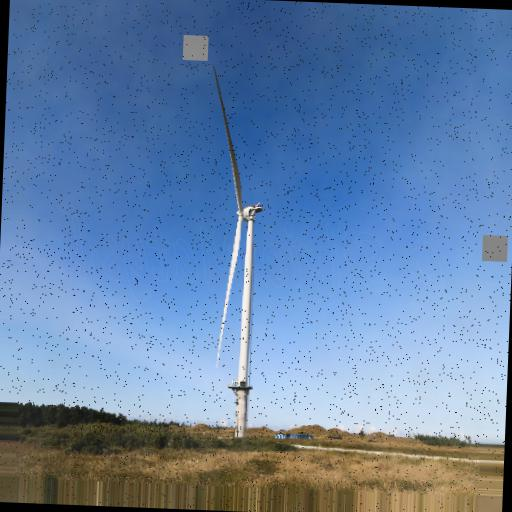wind turbine: (207, 63, 271, 439)
